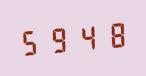eight: (99, 17, 125, 51)
five: (18, 24, 44, 58)
four: (72, 20, 98, 53)
nine: (45, 22, 71, 56)
